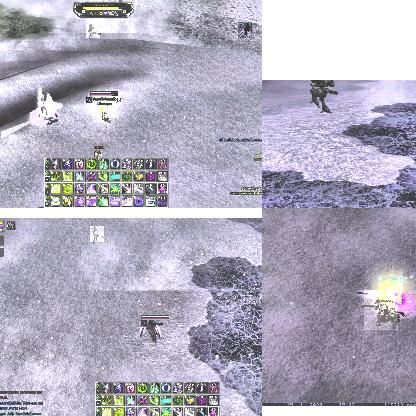caliana: (364, 290, 398, 330), (238, 22, 252, 38), (90, 226, 104, 242), (86, 24, 100, 38), (39, 100, 49, 118)
